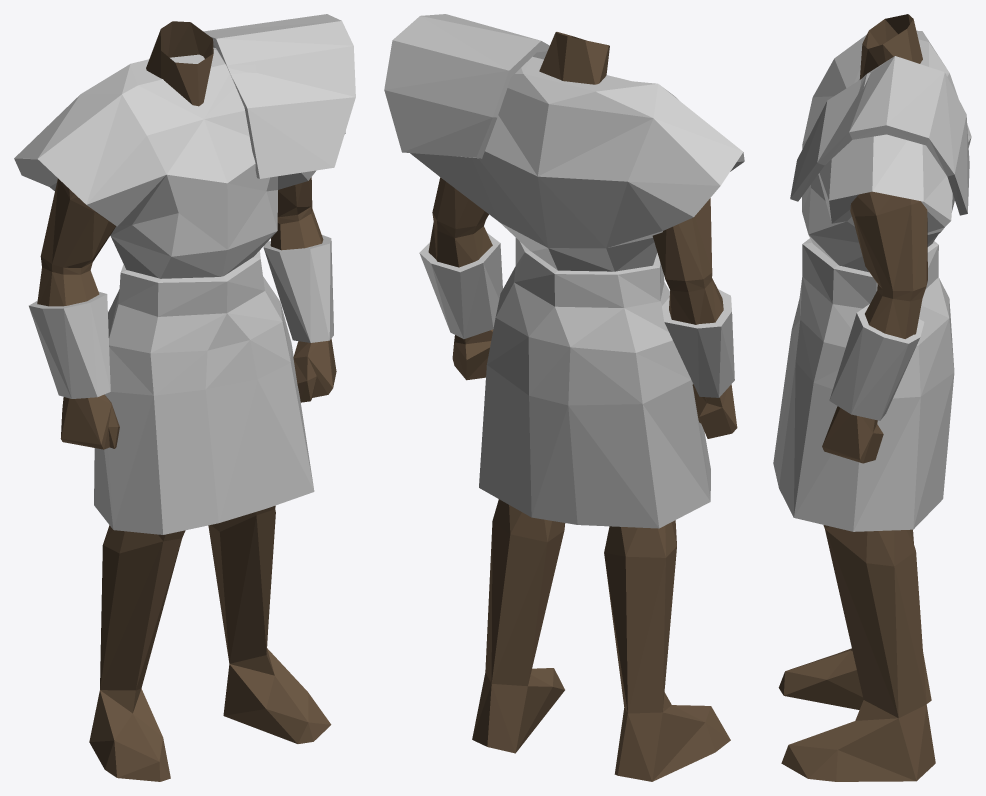
Rendered from ARMOR_LESTER.OBJ.
3 views of the same model, side by side, from view 1: azimuth 30°, elevation 25°; view 2: azimuth 150°, elevation 25°; view 3: azimuth 270°, elevation 25° (orthographic). The views are drawn at different scales.
Visible parts, largest first — view 1: ARMOR_LESTER; view 2: ARMOR_LESTER; view 3: ARMOR_LESTER.
Part boxes in pixels (x1,y1,x2,y2): ARMOR_LESTER: [14, 14, 355, 781]; ARMOR_LESTER: [384, 14, 744, 781]; ARMOR_LESTER: [773, 14, 971, 781].
Bounding box in the file's own units: 0.7866 × 1.68 × 0.4195.
